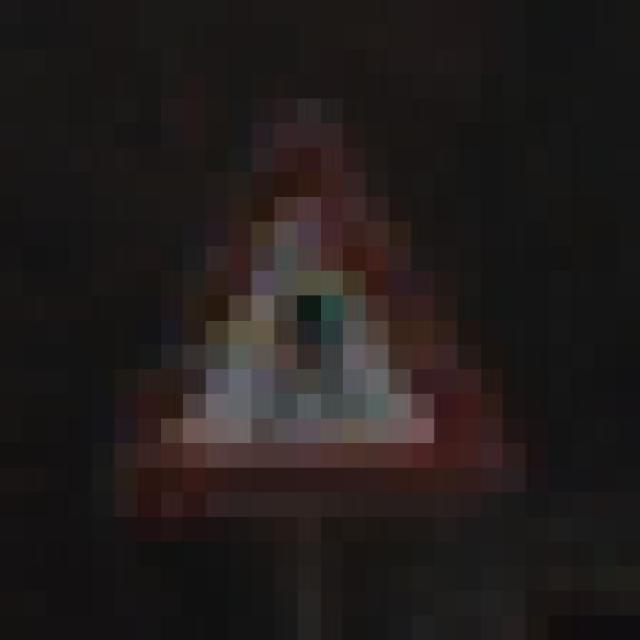Pedestrian Crossing: (69, 74, 548, 517)
